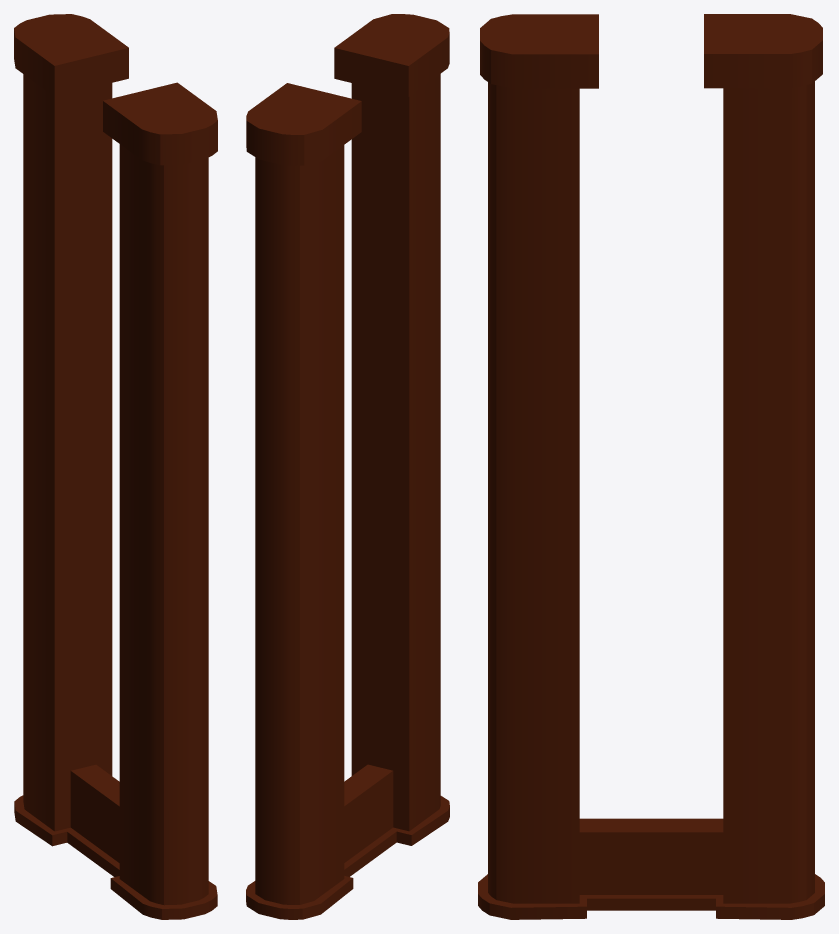
The model's file is Pillar_variant.glb.
The picture shows the model from 3 angles, left to right: view 1: azimuth 30°, elevation 25°; view 2: azimuth 150°, elevation 25°; view 3: azimuth 270°, elevation 25°; orthographic projection. The views are drawn at different scales.
Parts seen in each view (by area): view 1: Cube.044; view 2: Cube.044; view 3: Cube.044.
Part boxes in pixels (x1=…): Cube.044: x1=14, y1=14, x2=217, y2=919; Cube.044: x1=246, y1=14, x2=449, y2=919; Cube.044: x1=478, y1=14, x2=824, y2=919.
Size of the model in its own units: 2.32 by 23.16 by 8.41.
